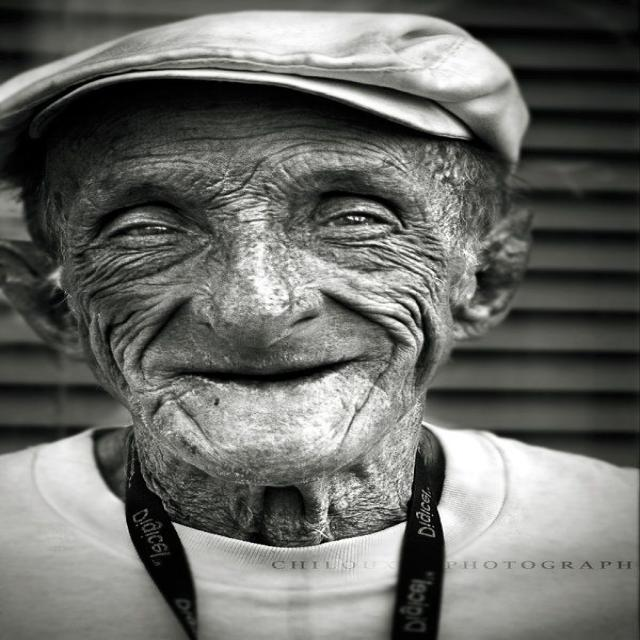front: (38, 122, 470, 476)
